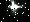person: (8, 1, 30, 17)
